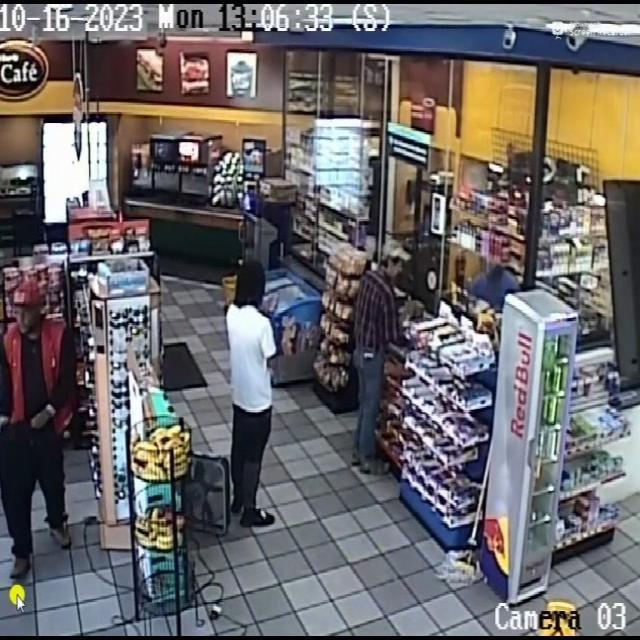Normal: (2, 266, 82, 570), (218, 262, 289, 542), (349, 236, 408, 476)
